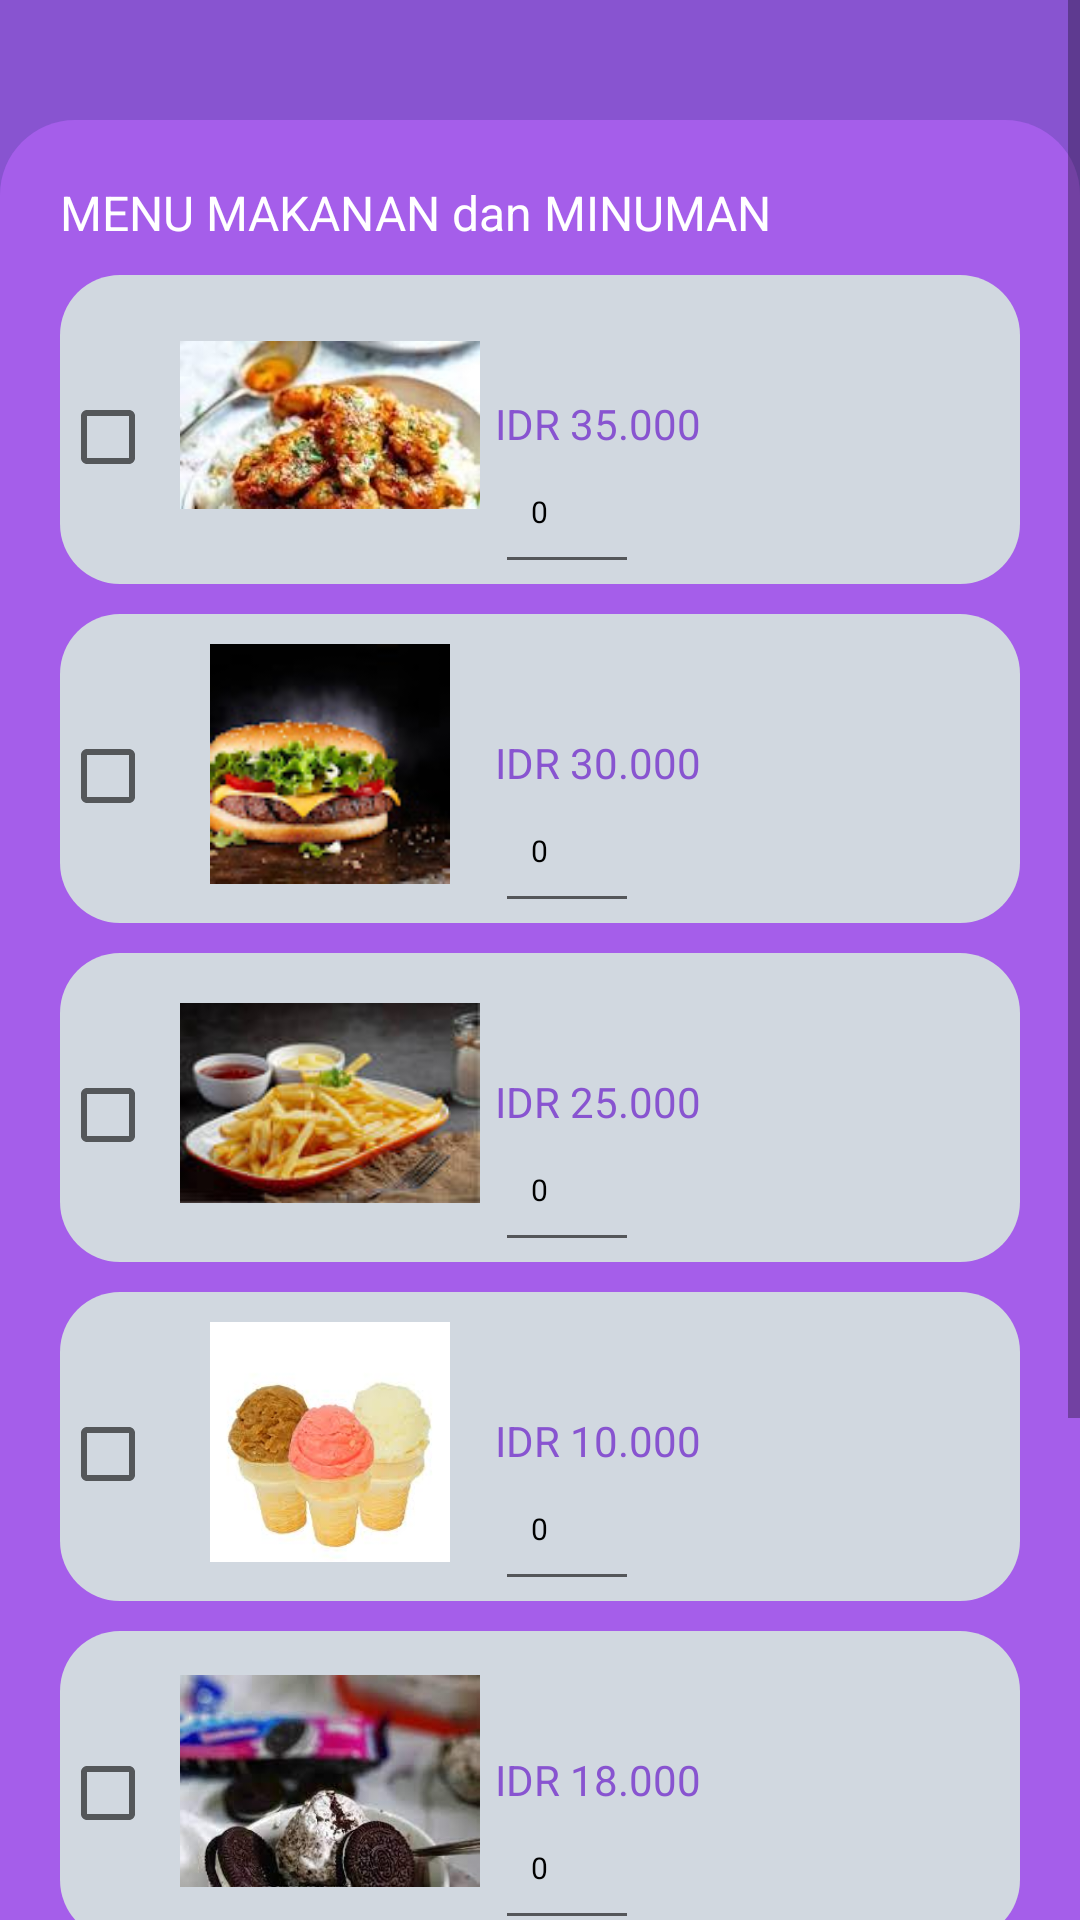

Where icons sit on this 1080 × 1920 app screen, as (x1, y1, x2, y2):
burger: (210, 644, 503, 884)
fries: (180, 1003, 503, 1203)
ice: (210, 1322, 503, 1562)
